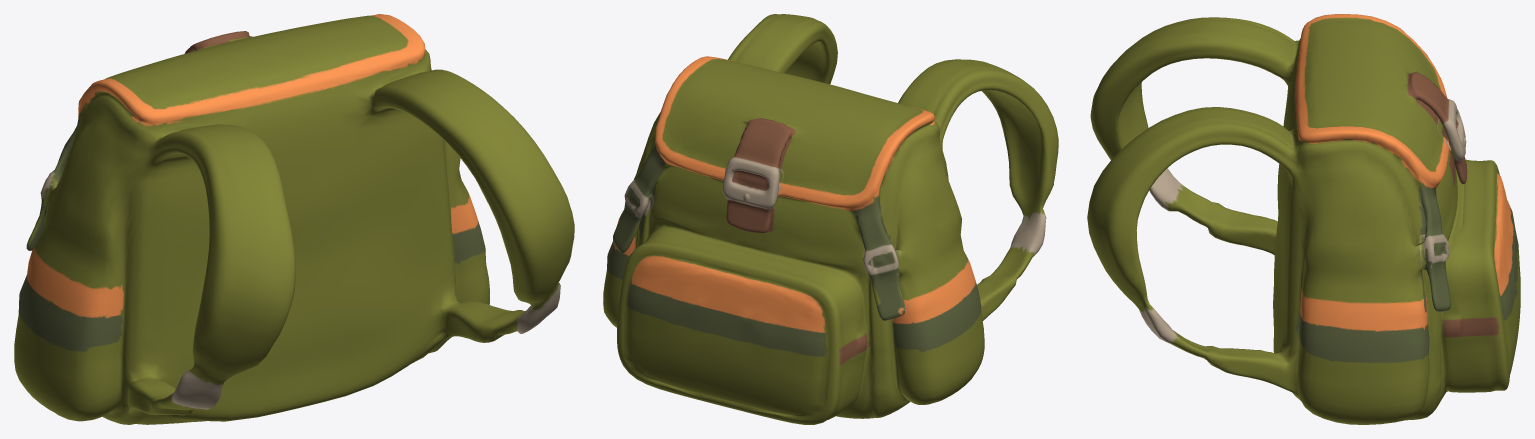
Rendered from Backpack_Mesh.fbx.
3 views of the same model, side by side, from view 1: azimuth 30°, elevation 25°; view 2: azimuth 150°, elevation 25°; view 3: azimuth 270°, elevation 25° (orthographic). The views are drawn at different scales.
Parts seen in each view (by area): view 1: Low.Backpack; view 2: Low.Backpack; view 3: Low.Backpack.
Part boxes in pixels (left/top/right/bottom): Low.Backpack: left=14, top=14, right=574, bottom=424; Low.Backpack: left=603, top=14, right=1058, bottom=424; Low.Backpack: left=1087, top=14, right=1520, bottom=424.
Bounding box in the file's own units: 36.57 × 28.12 × 37.16.
Materials: 1 (1 with a texture image).
